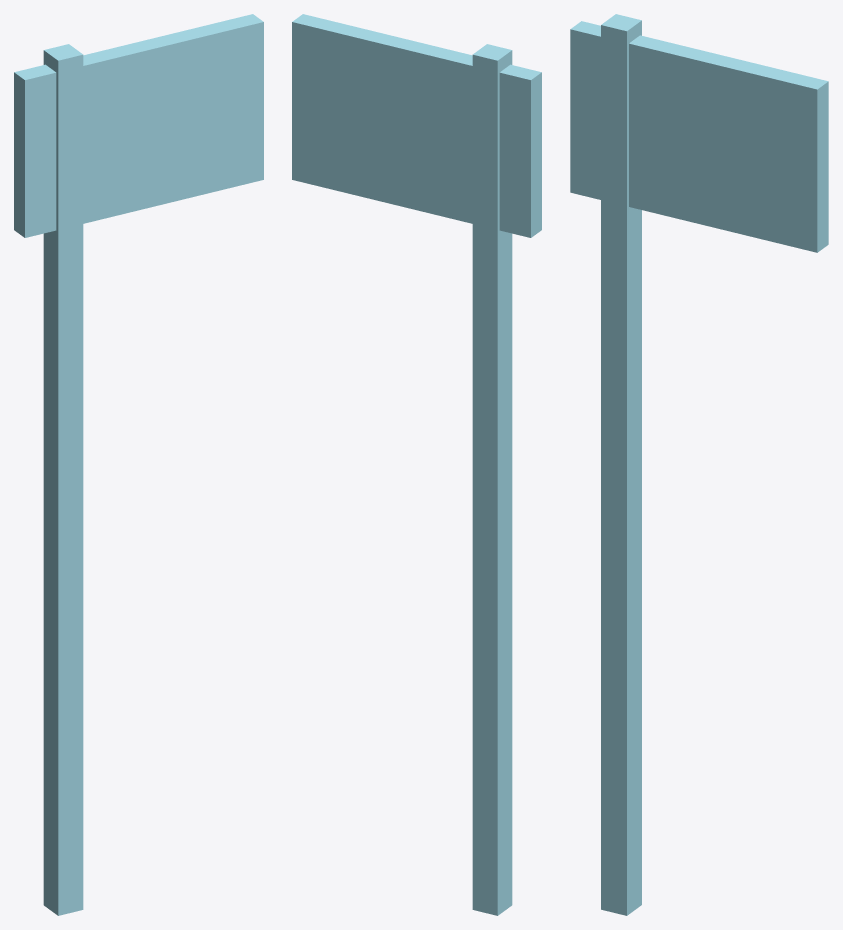
The model's file is glacial_cleaver.glb.
3 renders of one model, left to right at view 1: azimuth 30°, elevation 25°; view 2: azimuth 150°, elevation 25°; view 3: azimuth 330°, elevation 25°, orthographic. The views are drawn at different scales.
Visible parts, largest first — view 1: glacial_cleaver; view 2: glacial_cleaver; view 3: glacial_cleaver.
Part boxes in pixels (x1,y1,x2,y2): glacial_cleaver: (14, 14, 263, 915); glacial_cleaver: (292, 14, 541, 915); glacial_cleaver: (570, 14, 828, 915).
Size of the model in its own units: 0.38 by 1.3 by 0.04.
